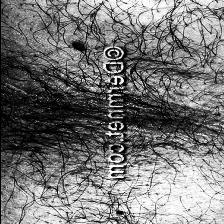Unclassified: (26, 89, 68, 139), (66, 35, 90, 55)
